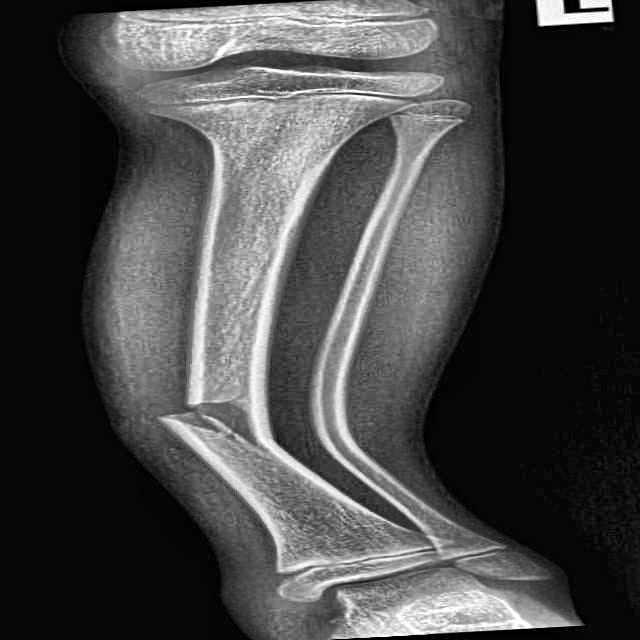Oblique Displaced: (129, 370, 297, 470)
